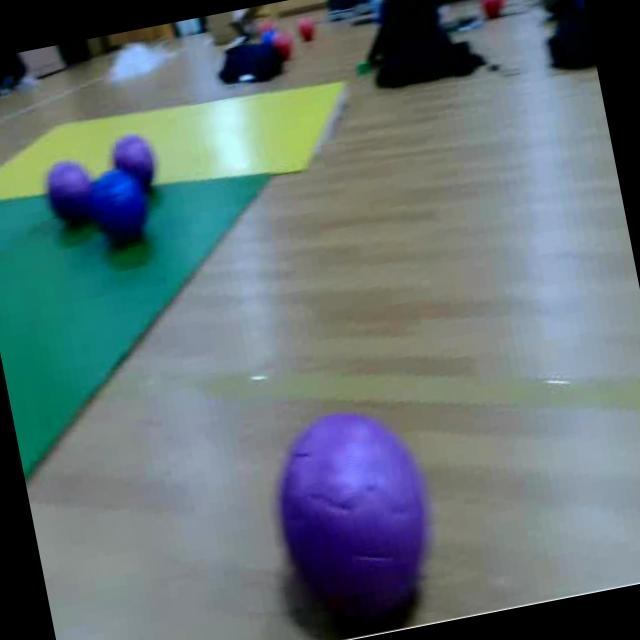blue_ball: (86, 168, 154, 252)
purple_ball: (262, 402, 449, 630), (41, 158, 92, 230), (106, 127, 158, 170)
